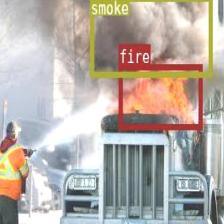fire: (119, 63, 202, 127)
smoke: (90, 0, 211, 75)
